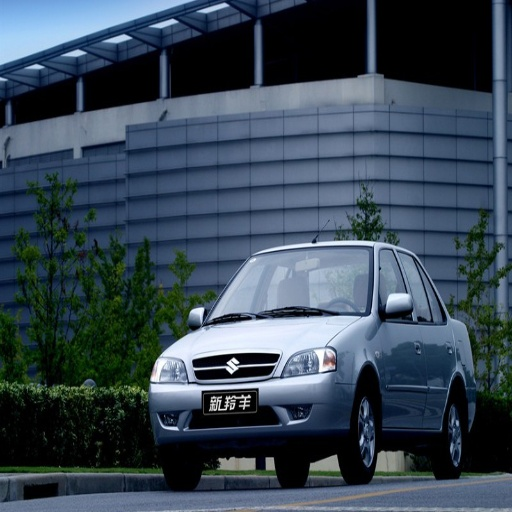front_bumper: (149, 352, 355, 447)
front_glass: (205, 250, 373, 323)
front_left_door: (377, 249, 427, 428)
